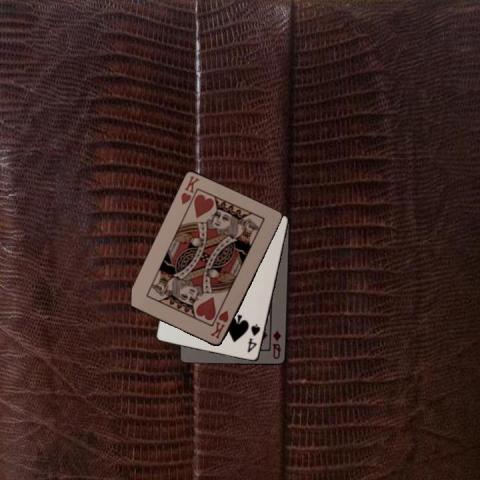4s: (245, 321, 262, 354)
Kh: (178, 173, 201, 207), (207, 307, 230, 340)
Qd: (269, 327, 283, 361)
